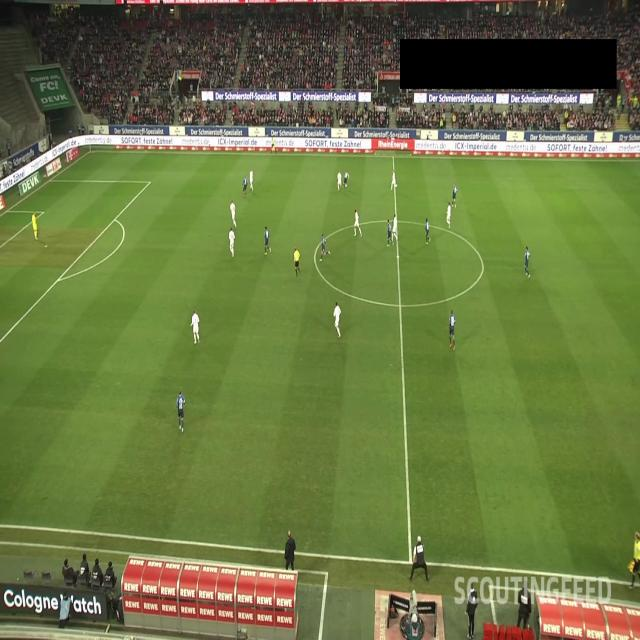ball: (344, 183, 348, 188)
goalkeeper: (32, 210, 38, 241)
player: (176, 388, 186, 433), (448, 309, 457, 353), (319, 234, 331, 264), (190, 309, 200, 345), (333, 301, 341, 338), (524, 245, 531, 278), (354, 209, 362, 237), (391, 214, 398, 245), (264, 225, 271, 255), (230, 200, 237, 228), (390, 169, 398, 192), (229, 227, 235, 257), (342, 169, 349, 191), (446, 201, 451, 230), (387, 219, 392, 246), (452, 182, 457, 208), (425, 218, 430, 244), (243, 175, 248, 198), (249, 170, 254, 192), (337, 172, 342, 192)
referee: (628, 530, 640, 590), (293, 246, 302, 278), (270, 136, 278, 154)
